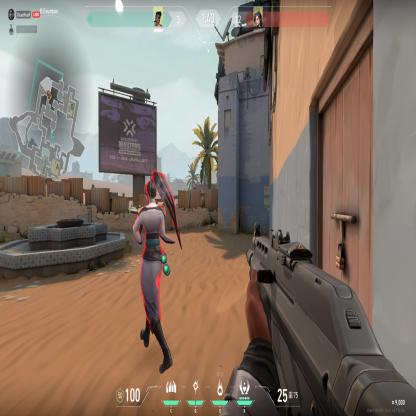enemy: (132, 169, 182, 375)
